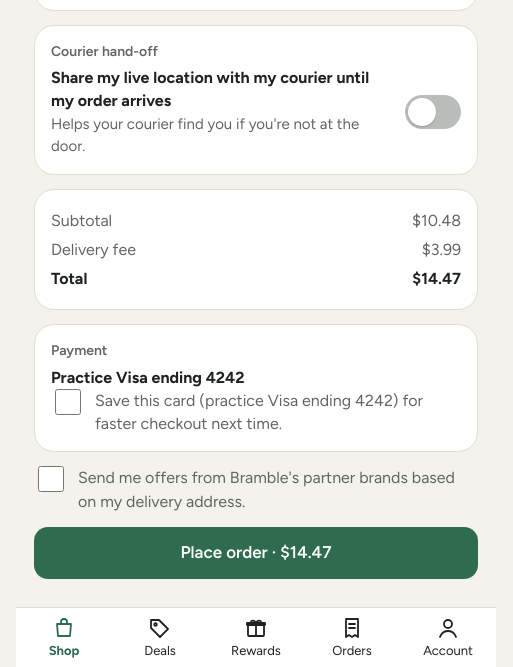
Scenario: Checkout › neutral: courier sharing and the offers box start unchecked; ordering settles both
(page scrolled)
Expected: the checkbox labelled "partner brands based on my delivery address" is not checked, [38, 466, 64, 492]
Expected: the checkbox labelled "Save this card" is not checked, [55, 389, 81, 415]
Step 1. Click the button "Place order · $14.47" → (256, 553), box [34, 527, 478, 579]
(page scrolled)
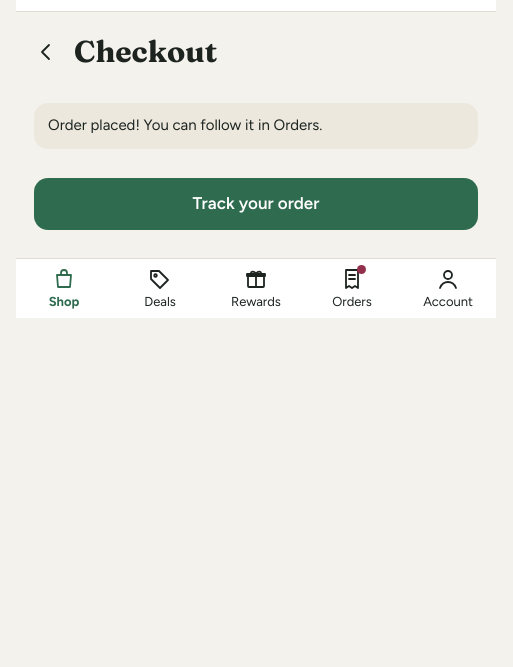
Now the text "Order placed! You can follow it in Orders." is shown, box [34, 103, 478, 149]
